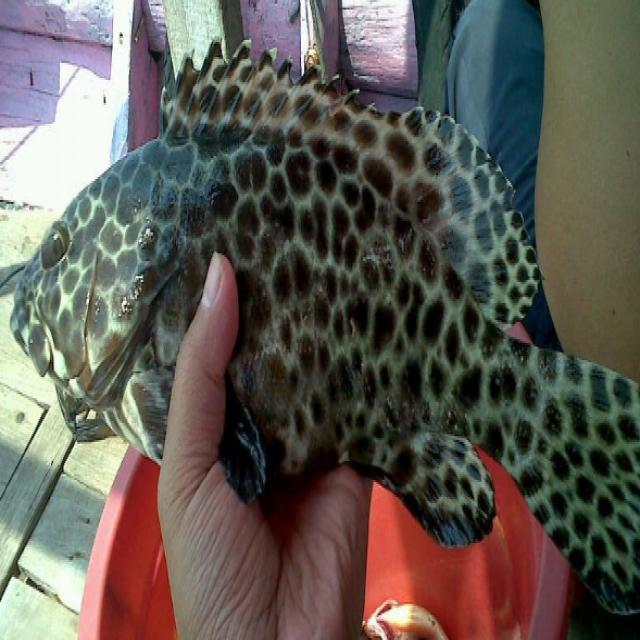Plectropomus-leopardus: (12, 57, 640, 611)
